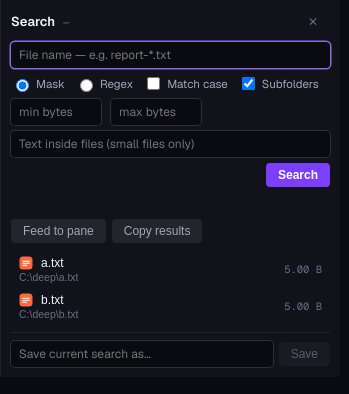
Test case: FER-99 result list: keyboard, copy, feed › Copy results puts one path per line on the clipboard
Click the button "Copy results".
click(157, 231)  # box [112,219,202,243]
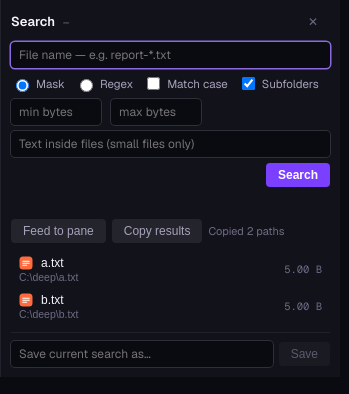
Expected: the message "Copied 2 paths" is shown, [208,224,284,238]
